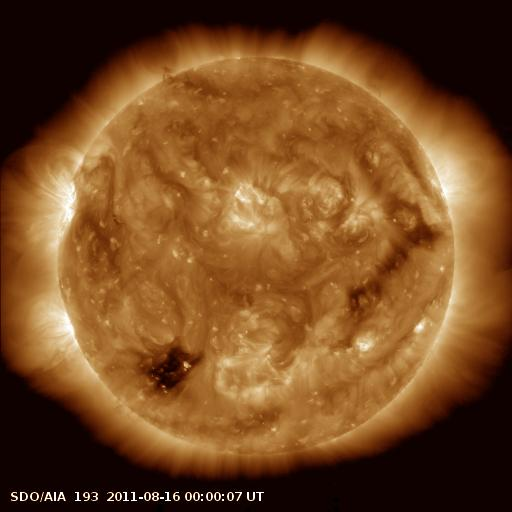coronal_hole: (348, 220, 437, 316), (137, 348, 207, 397)
